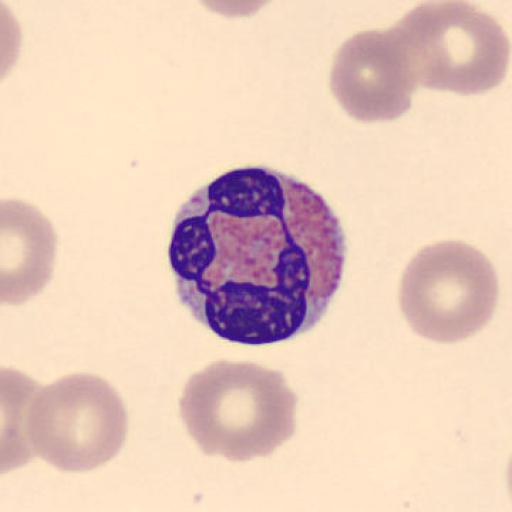RBC: (177, 356, 298, 462), (396, 238, 501, 345), (24, 370, 130, 475), (403, 0, 511, 97), (328, 26, 422, 125), (2, 195, 58, 307), (1, 364, 36, 474), (0, 0, 23, 89), (187, 0, 287, 20)
WBC: (165, 164, 348, 346)
